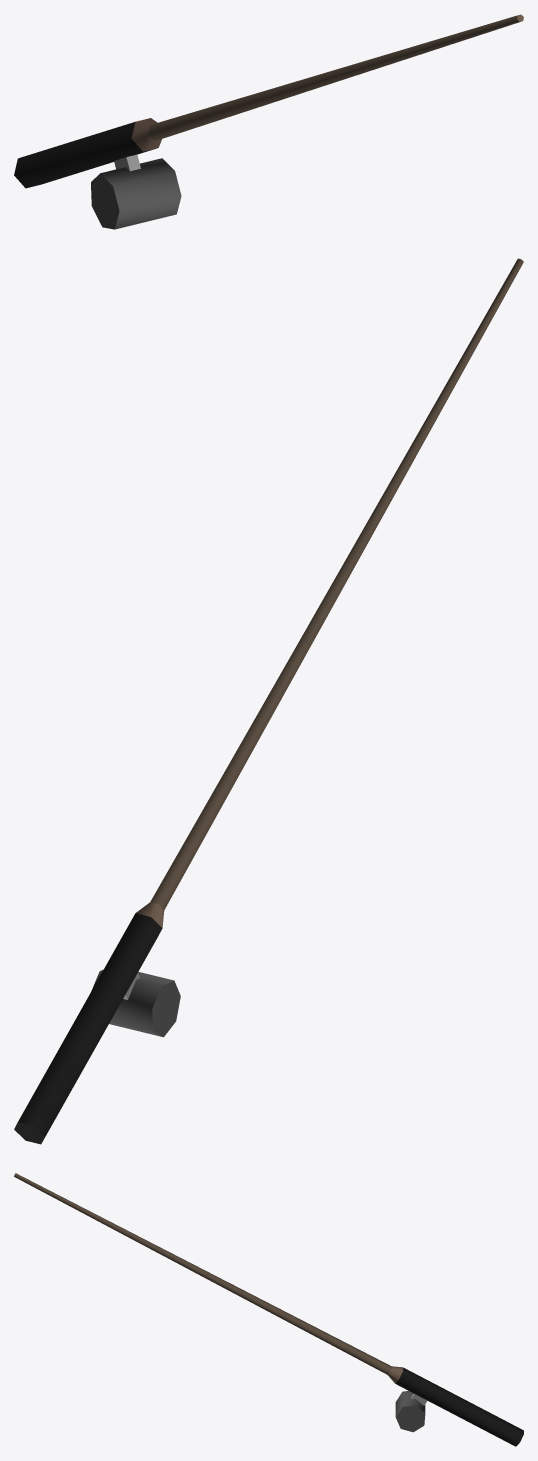
File: rod.dae
3 renders of one model, top to bottom at view 1: azimuth 30°, elevation 25°; view 2: azimuth 150°, elevation 25°; view 3: azimuth 270°, elevation 25°, orthographic. The views are drawn at different scales.
Parts seen in each view (by area): view 1: vsn_mesh_0_Cylinder001; view 2: vsn_mesh_0_Cylinder001; view 3: vsn_mesh_0_Cylinder001.
Part boxes in pixels (x1,y1,x2,y2): vsn_mesh_0_Cylinder001: (14,14,523,229); vsn_mesh_0_Cylinder001: (14,258,523,1144); vsn_mesh_0_Cylinder001: (14,1173,523,1446).
Size of the model in its own units: 0.12 by 0.9761 by 1.66.
1 material, 1 textured.
